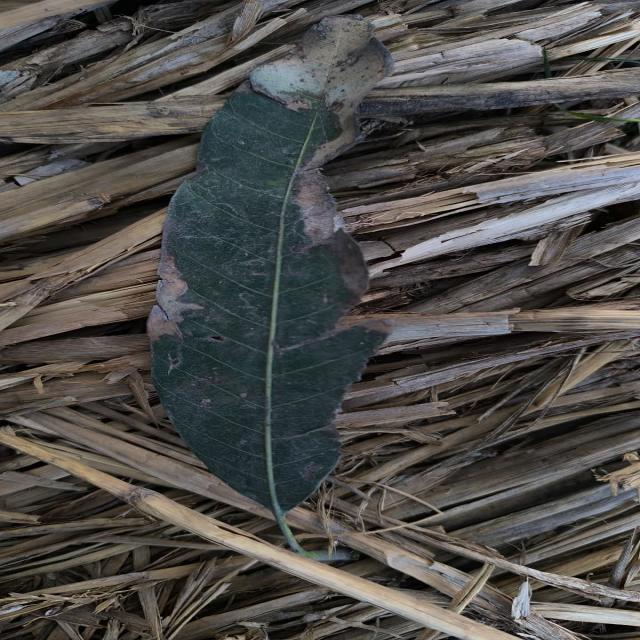Bacterial Canker: (246, 0, 402, 143), (295, 113, 355, 243)
